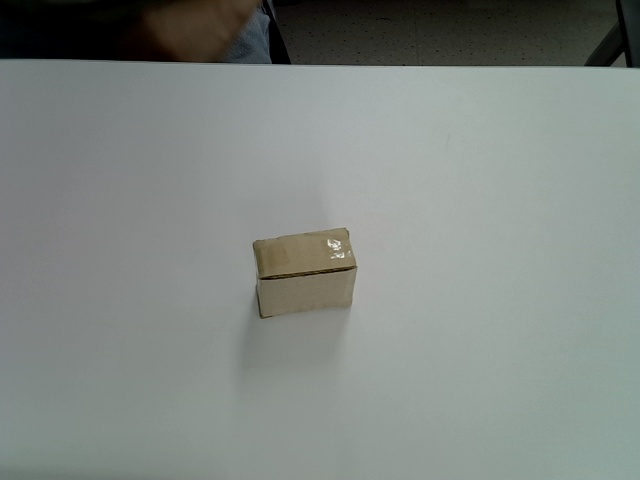normal: (251, 227, 359, 318)
